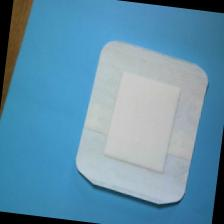Dressing: (70, 37, 214, 212)
